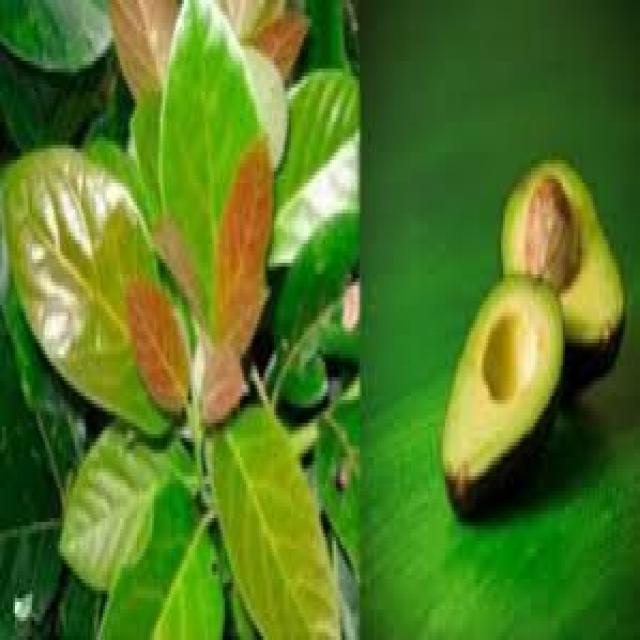organic waste: (2, 137, 178, 431), (156, 0, 264, 290), (439, 267, 563, 518), (499, 148, 623, 388), (210, 404, 336, 636), (53, 415, 197, 587), (94, 469, 225, 636), (107, 0, 278, 114), (0, 305, 58, 636), (268, 65, 358, 263), (272, 206, 357, 404), (210, 133, 268, 358), (120, 274, 193, 419), (0, 46, 101, 137), (314, 392, 358, 576), (0, 0, 116, 69), (520, 171, 580, 286), (244, 0, 308, 72), (197, 335, 244, 427)
